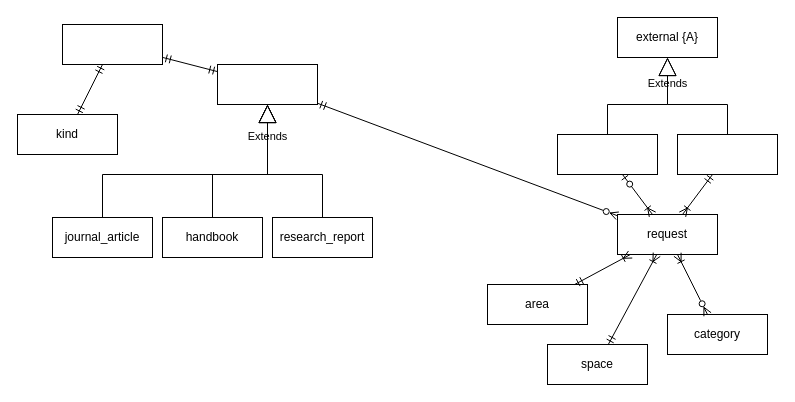
Some shapes in this 795 by 402 pixel diagram are drawn without their labels. The centre of each missing label's shape, as x and y in pixels:
"ext_organization" belongs at (x=607, y=154).
"ext_user" belongs at (x=727, y=154).
"publication {A}" belongs at (x=267, y=84).
"type" belongs at (x=112, y=44).
